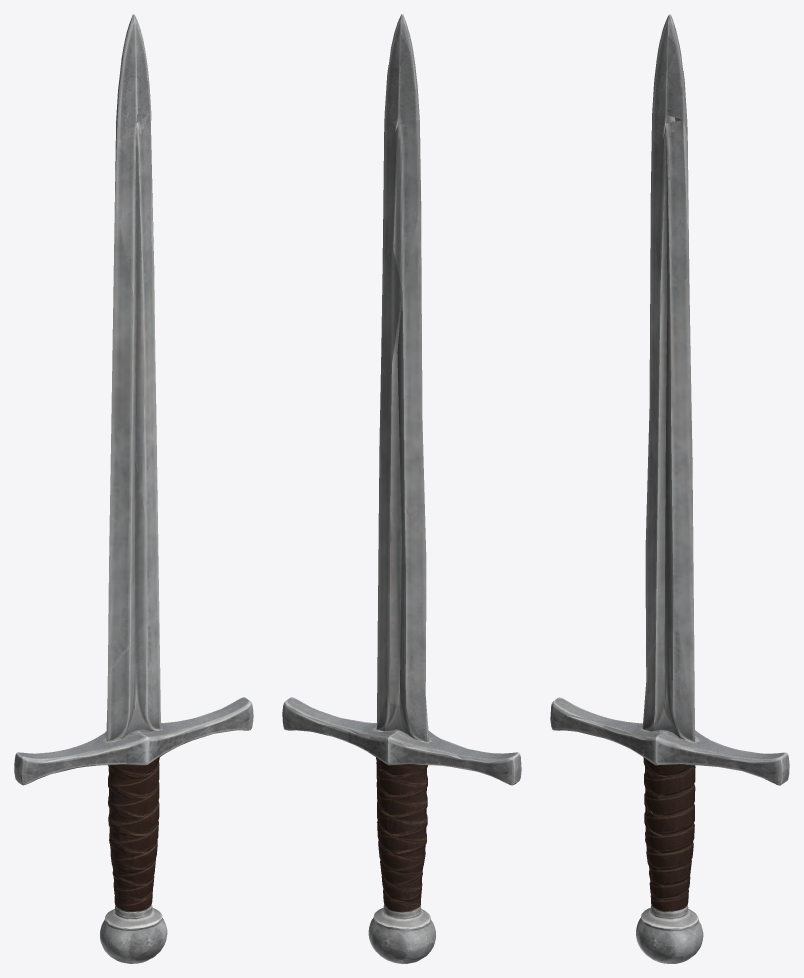
Rendered from sword-plain-gnome.glb.
3 views of the same model, side by side, from view 1: azimuth 30°, elevation 25°; view 2: azimuth 150°, elevation 25°; view 3: azimuth 330°, elevation 25° (orthographic).
Parts seen in each view (by area): view 1: output_unwrapped; view 2: output_unwrapped; view 3: output_unwrapped.
Part boxes in pixels (<box>): output_unwrapped: <box>14,14,253,963</box>; output_unwrapped: <box>282,14,521,963</box>; output_unwrapped: <box>550,14,789,963</box>.
Size of the model in its own units: 0.4906 by 1.9 by 0.1115.
Materials: 1 (1 with a texture image).
